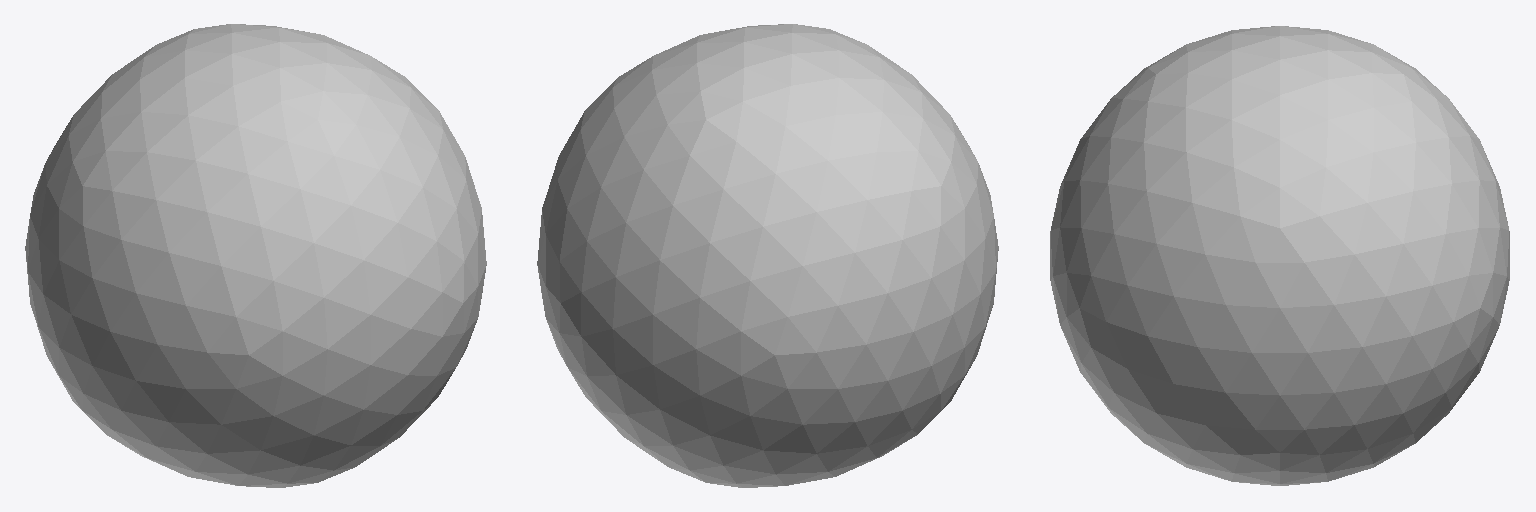
The model's file is sphere_smoothed_10.obj.
The picture shows the model from 3 angles: view 1: azimuth 30°, elevation 25°; view 2: azimuth 150°, elevation 25°; view 3: azimuth 270°, elevation 25°; orthographic projection.
Size of the model in its own units: 1.85 by 1.85 by 1.85.